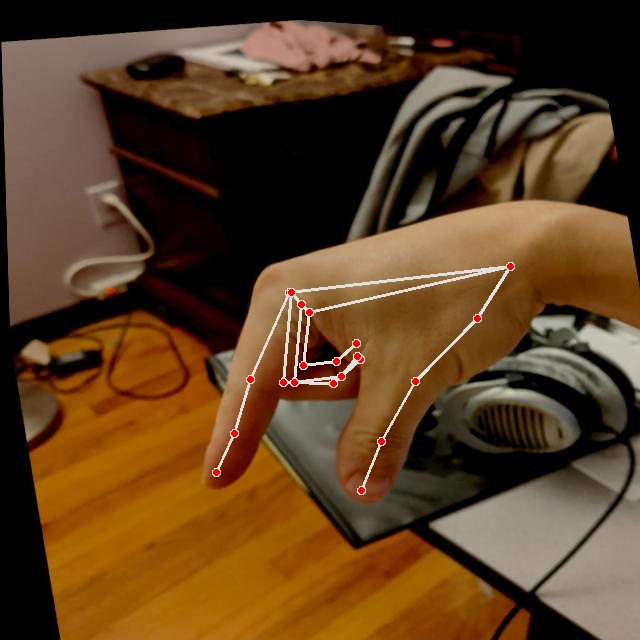Q: (149, 167, 582, 539)
